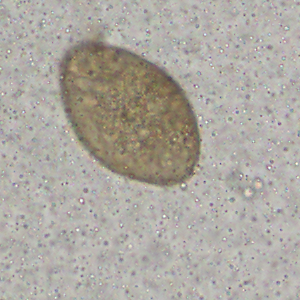Fasciola_hepatica_egg: (58, 38, 201, 188)
